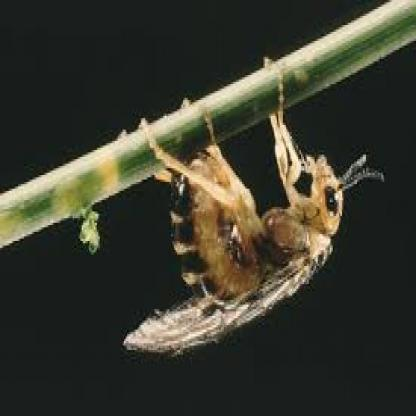sawfly: (118, 60, 387, 356)
